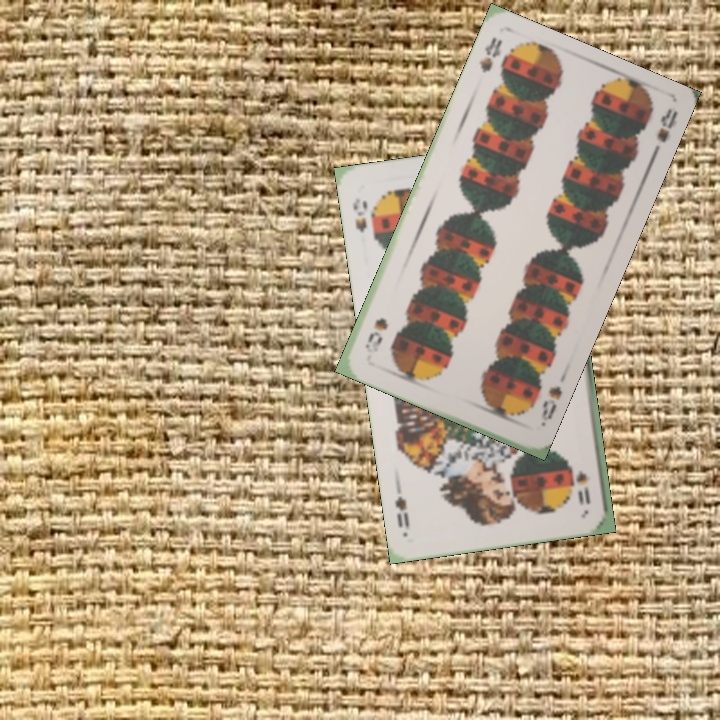S8: (537, 382, 565, 429), (474, 33, 505, 75)
SO: (572, 466, 593, 507), (349, 194, 370, 235)
